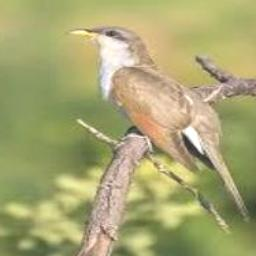Cuckoo: (67, 26, 249, 221)
